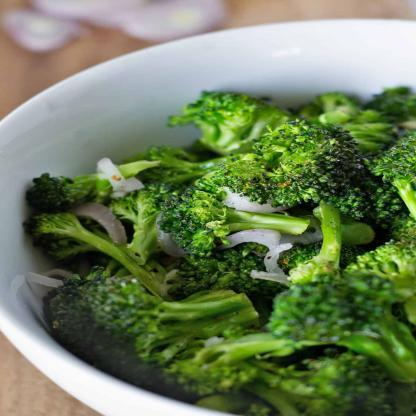broccoli: (23, 83, 415, 415)
